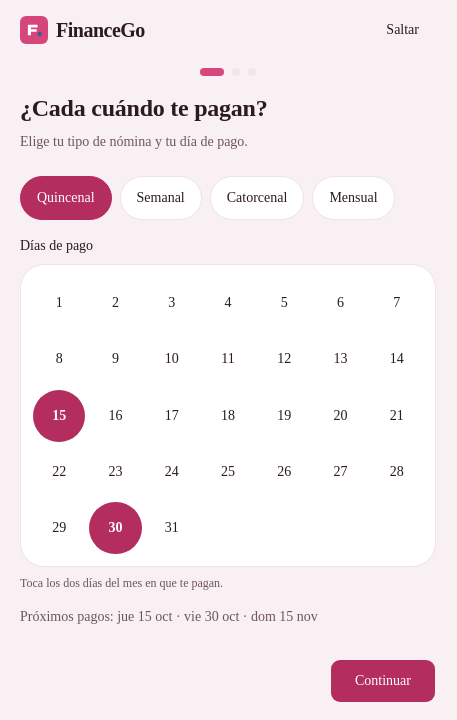
Test: WelcomeFlow › adds a card, listing it as a tile
The image size is (457, 720).
Click the button "Continuar" at (383, 682), box [330,660,436,704]
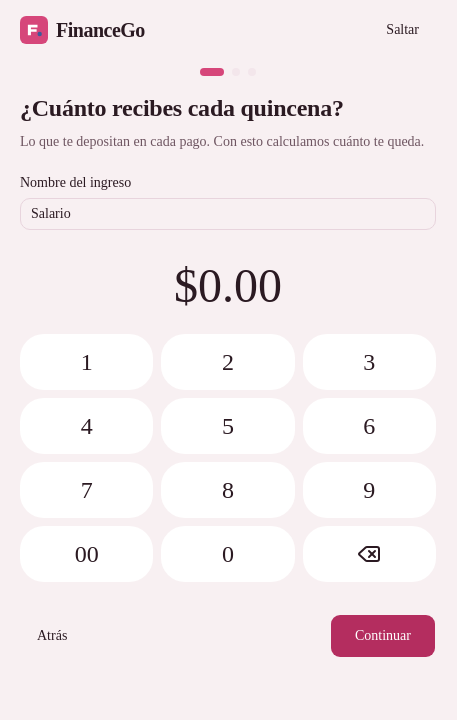
Expected: the heading "¿Cuánto recibes cada quincena?" is shown, [20,95,344,121]
Type keys "100"
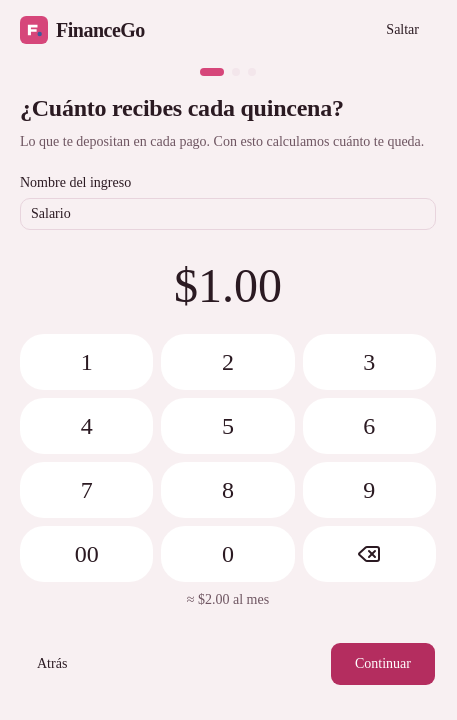
Click the button "Continuar" at (383, 664), box [330,642,436,686]
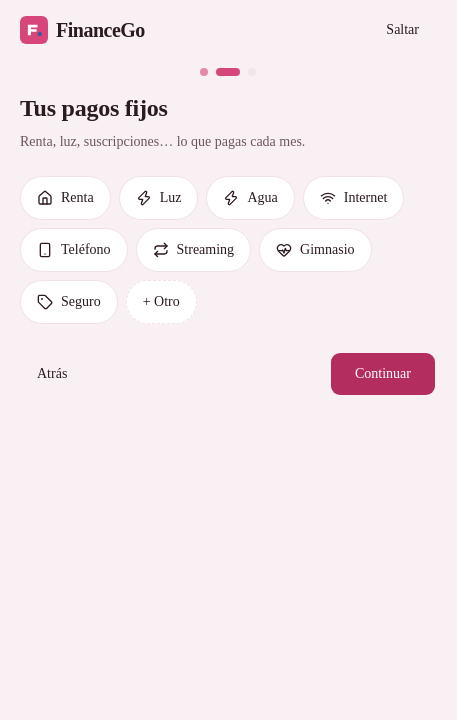
Expected: the heading "Tus pagos fijos" is shown, [20,95,168,121]
Click the button "Continuar" at (383, 374), box [330,352,436,396]
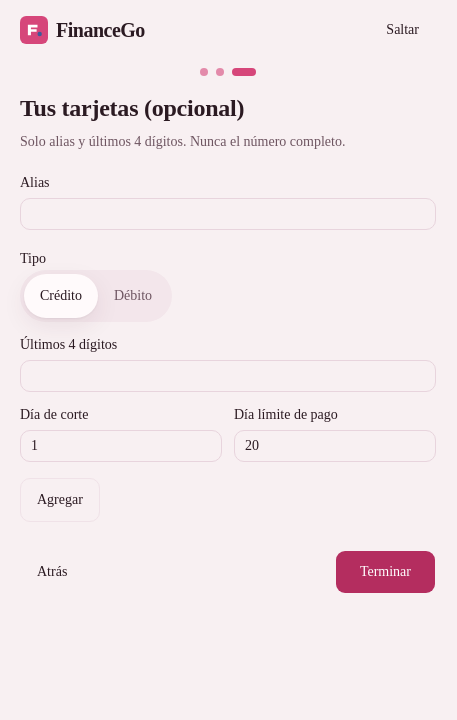
Type "BBVA" into the field labelled "Alias" at (228, 214), box [20,198,436,230]
Type "1234" into the field labelled "Últimos 4 dígitos" at (228, 376), box [20,360,436,392]
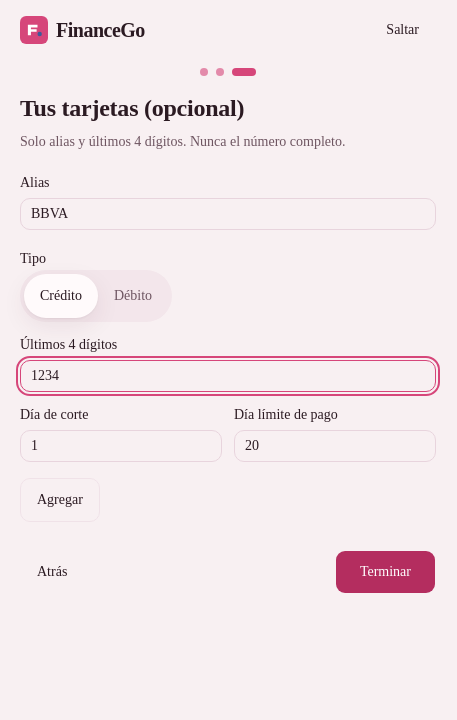
Click the button "Agregar" at (60, 500), box [20,478,100,522]
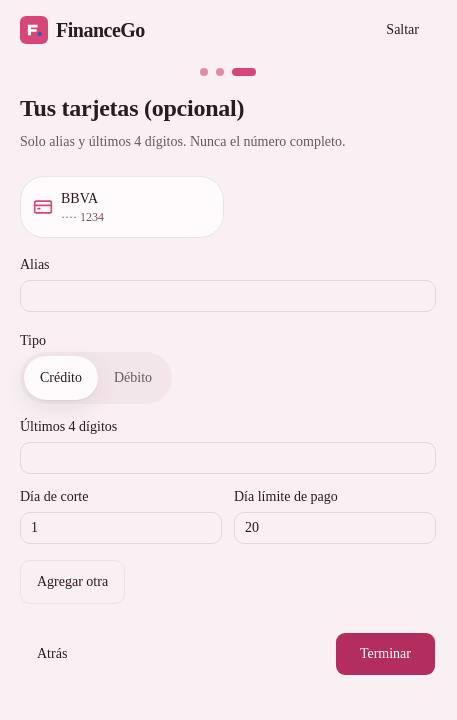
Expected: the text "···· 1234" is shown, [61,209,104,225]
Expected: the button "Agregar otra" is shown, [20,560,125,604]
